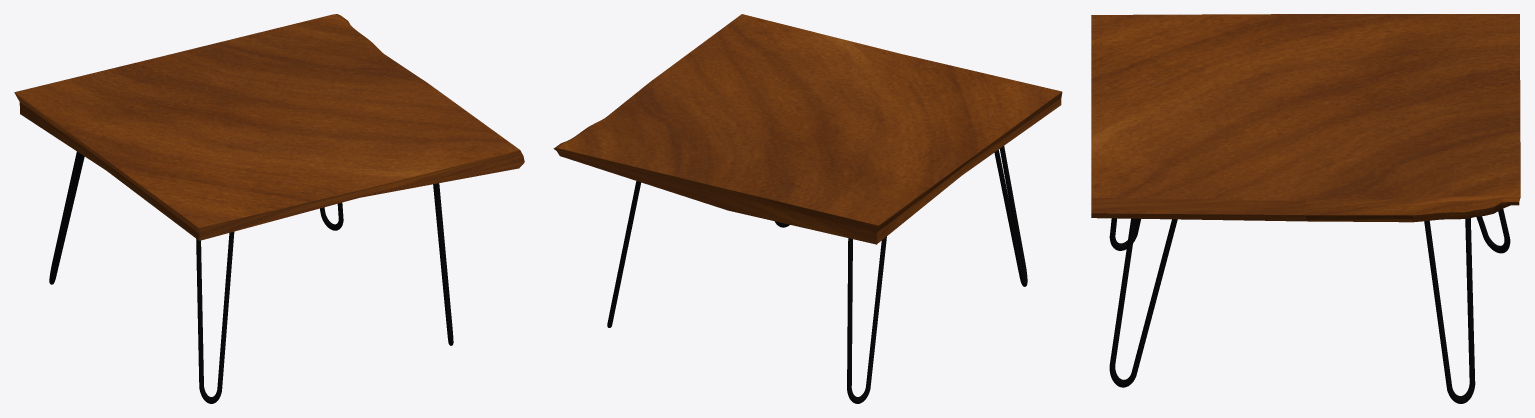
File: woodentable01.fbx
The picture shows the model from 3 angles, left to right: view 1: azimuth 30°, elevation 25°; view 2: azimuth 150°, elevation 25°; view 3: azimuth 270°, elevation 25°; orthographic projection. The views are drawn at different scales.
Parts seen in each view (by area): view 1: matban, chanban.001, chanban.002, chanban; view 2: matban, chanban.002, chanban.001, chanban.003; view 3: matban, chanban.003, chanban, chanban.002.
Boxes of the visible parts, x1,y1,x2,y2 form: matban: (14, 14, 524, 240); chanban.001: (196, 231, 234, 403); chanban.002: (49, 151, 84, 284); chanban: (433, 183, 453, 345); matban: (553, 14, 1062, 244); chanban.002: (847, 236, 886, 403); chanban.001: (994, 146, 1027, 286); chanban.003: (607, 181, 641, 327); matban: (1091, 14, 1520, 222); chanban.003: (1424, 218, 1475, 403); chanban: (1109, 218, 1177, 387); chanban.002: (1476, 209, 1510, 253).
Size of the model in its own units: 204 by 115 by 200.
